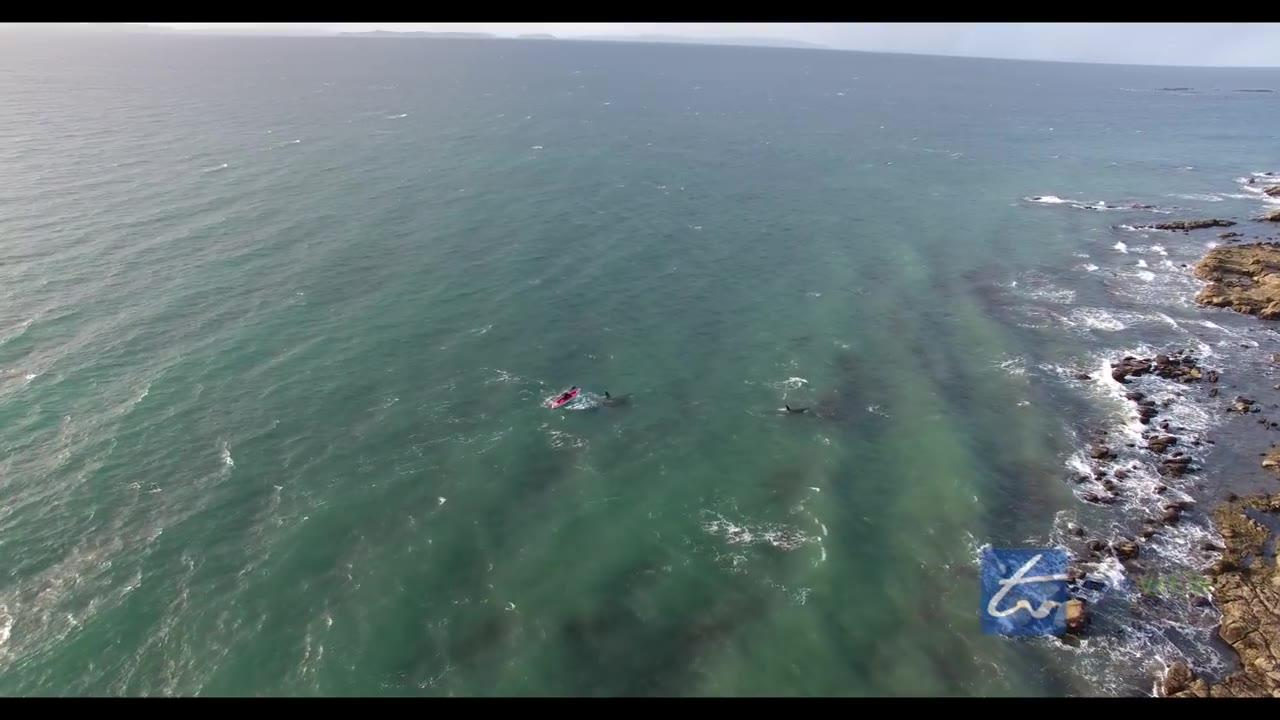human: (556, 382, 575, 408), (600, 379, 613, 413)
